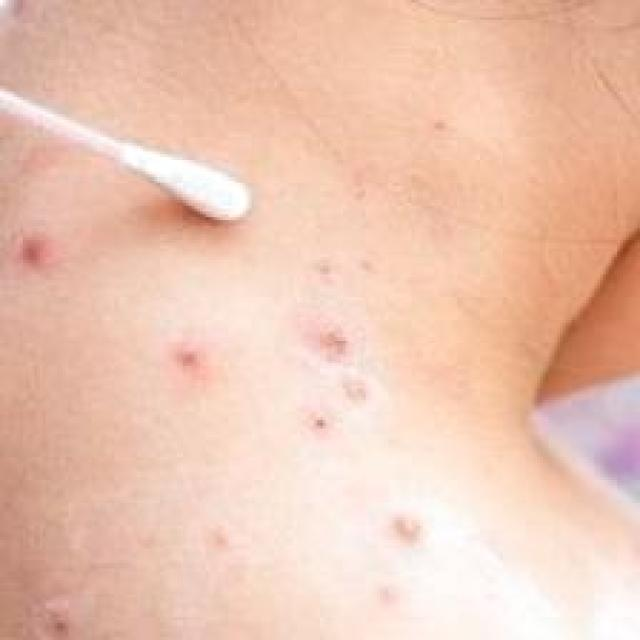monkeypox: (0, 179, 535, 640)
